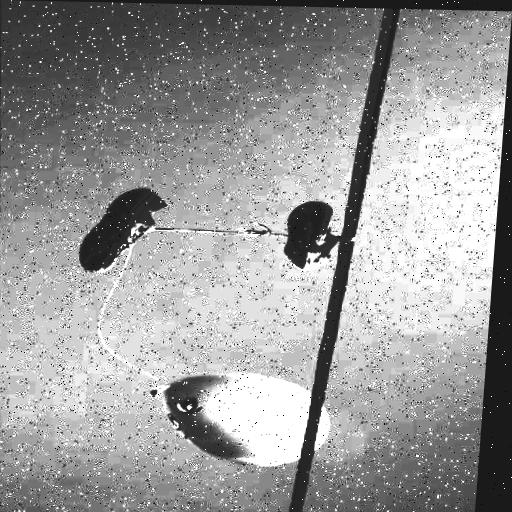balloon: (151, 374, 326, 466)
